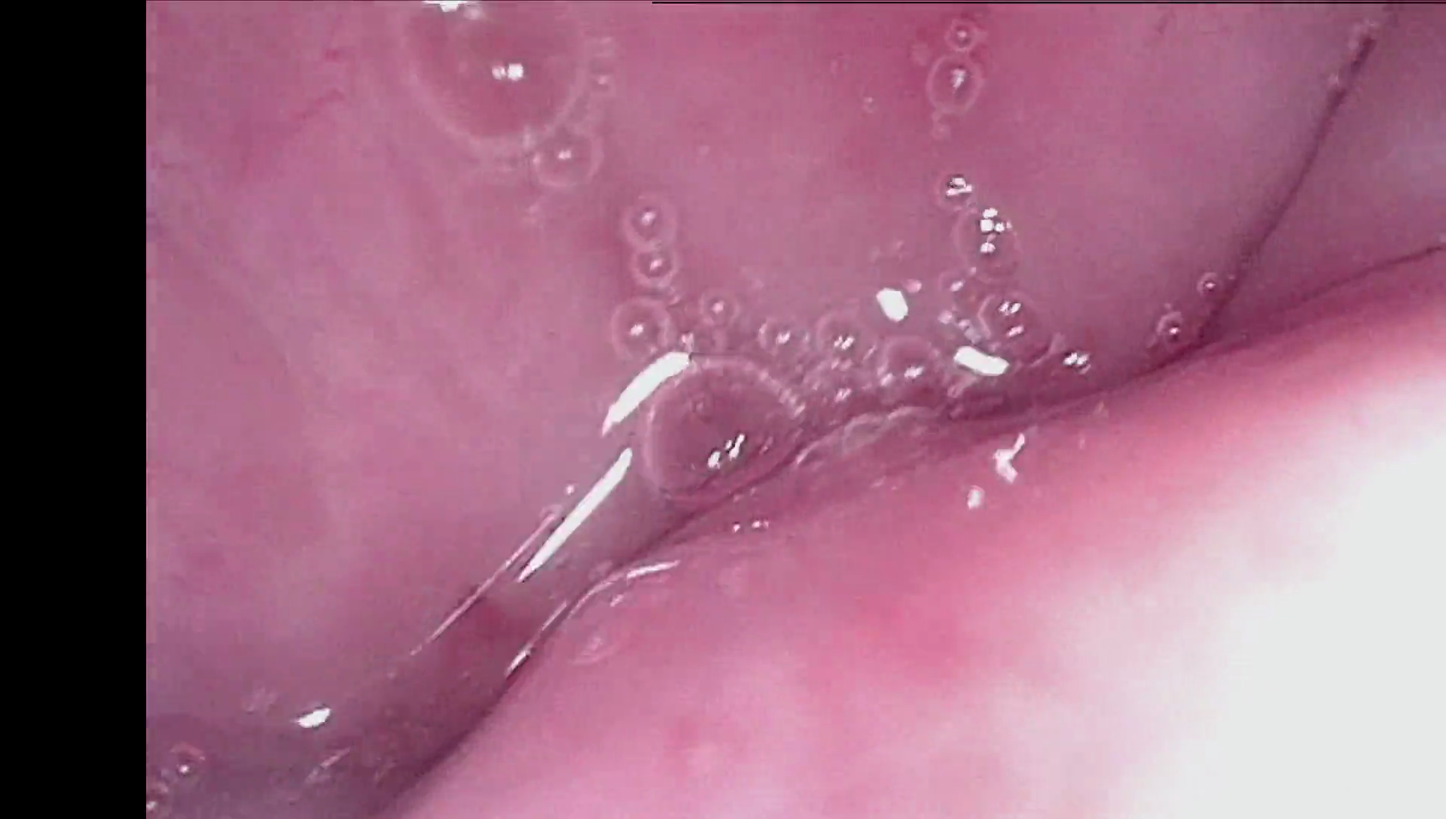close_wall: (836, 306, 1446, 819)
